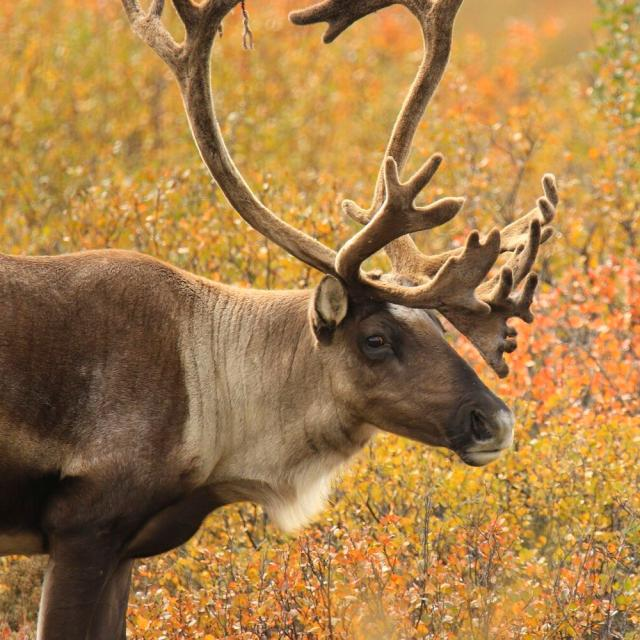reindeer: (1, 0, 558, 639)
